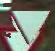Give way: (3, 6, 47, 50)
